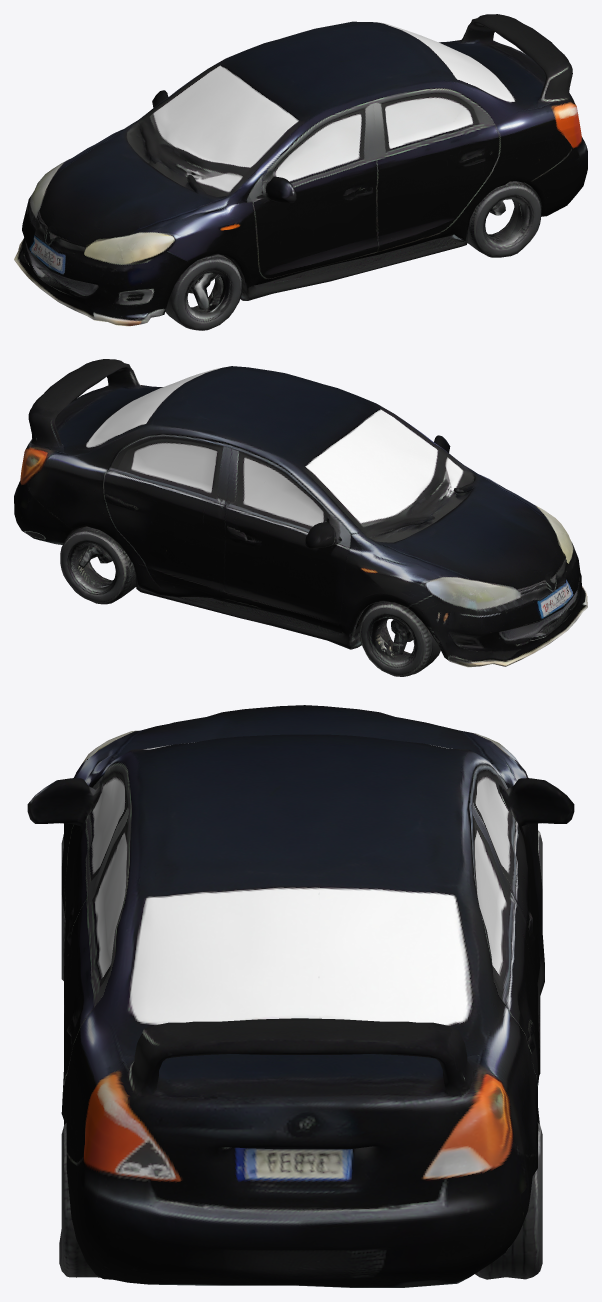
File: cheryQuillota.glb
The picture shows the model from 3 angles, top to bottom: view 1: azimuth 30°, elevation 25°; view 2: azimuth 150°, elevation 25°; view 3: azimuth 270°, elevation 25°; orthographic projection. The views are drawn at different scales.
Parts seen in each view (by area): view 1: mesh_node; view 2: mesh_node; view 3: mesh_node.
Part boxes in pixels (<box>): mesh_node: <box>14,14,587,330</box>; mesh_node: <box>14,359,587,676</box>; mesh_node: <box>27,705,574,1287</box>.
Size of the model in its own units: 1.91 by 0.6614 by 0.8806.
Materials: 1 (1 with a texture image).
